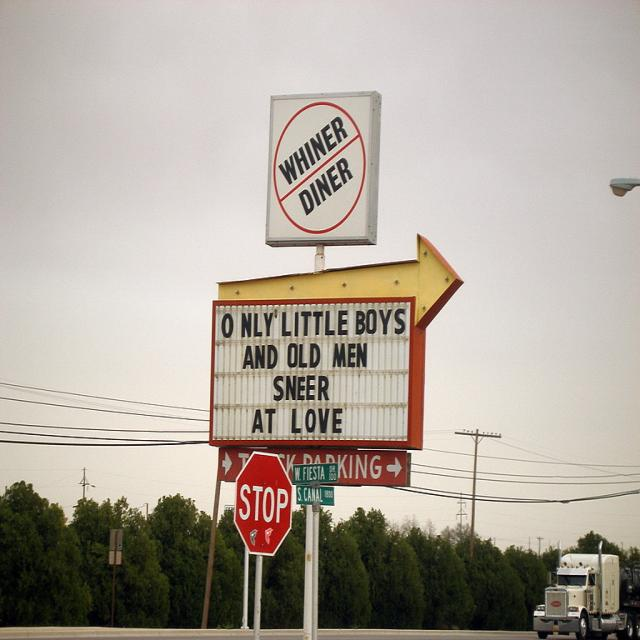Stop-sign: (232, 450, 292, 558)
